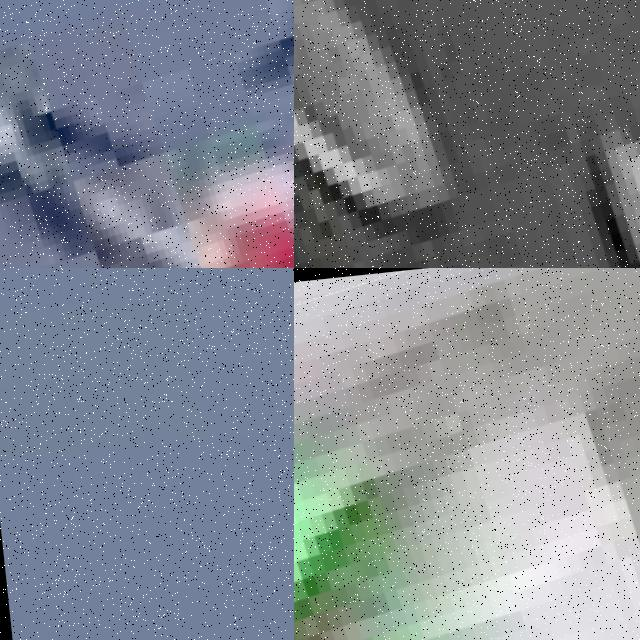drone: (294, 268, 640, 640), (294, 0, 640, 268), (0, 0, 294, 268)
